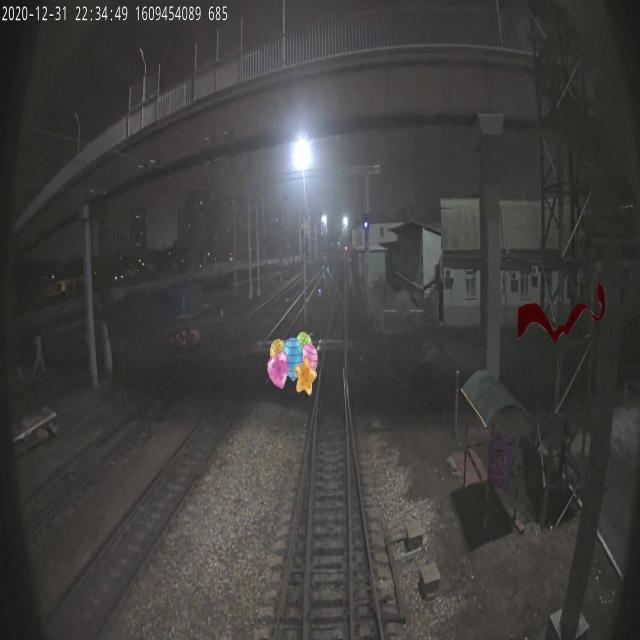balloon: (267, 332, 319, 396)
floating object: (516, 279, 606, 343)
